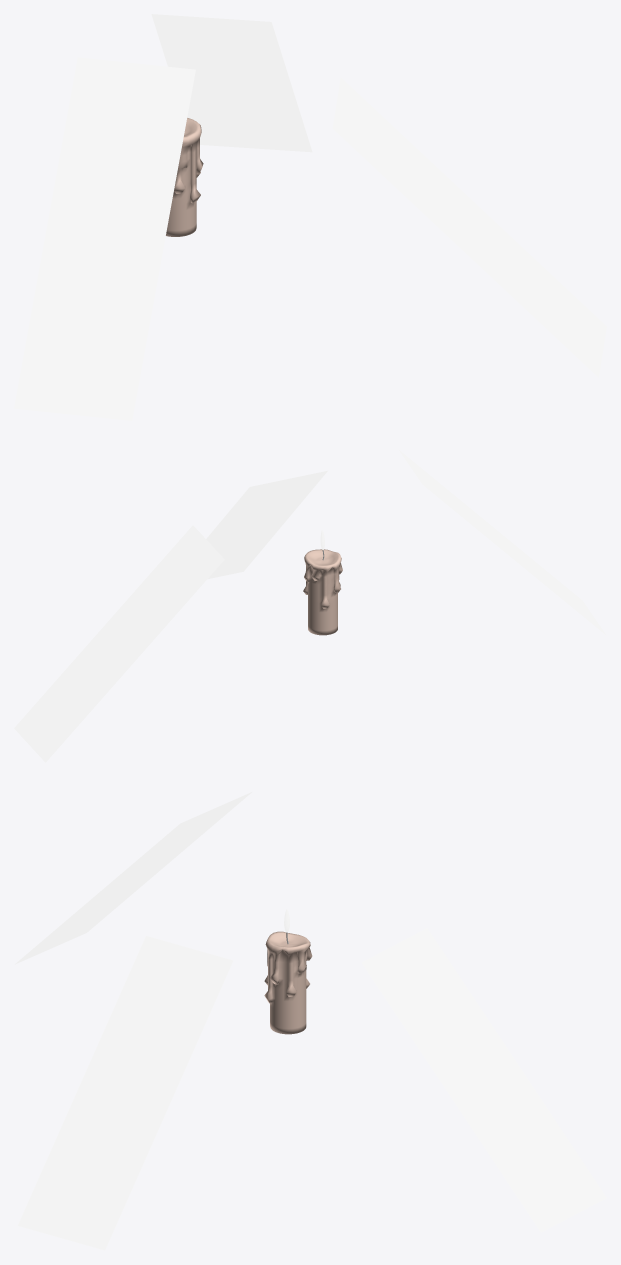
File: candle.glb
3 views of the same model, one above another, from view 1: azimuth 30°, elevation 25°; view 2: azimuth 150°, elevation 25°; view 3: azimuth 270°, elevation 25° (orthographic). The views are drawn at different scales.
Parts seen in each view (by area): view 1: light 1, light 2, light back, Candle; view 2: light back, light 2, light 1, Candle; view 3: light 2, light back, light 1, Candle.
Boxes of the visible parts, <box> form: light 1: <box>14,57,195,420</box>; light 2: <box>332,77,606,377</box>; light back: <box>151,14,312,152</box>; Candle: <box>166,118,203,236</box>; light back: <box>14,525,224,762</box>; light 2: <box>206,470,327,579</box>; light 1: <box>398,449,606,635</box>; Candle: <box>303,549,342,635</box>; light 2: <box>17,936,233,1250</box>; light back: <box>361,928,606,1232</box>; light 1: <box>15,792,251,964</box>; Candle: <box>264,931,312,1034</box>.
Bounding box in the file's own units: 2.27 × 1.13 × 2.23.
